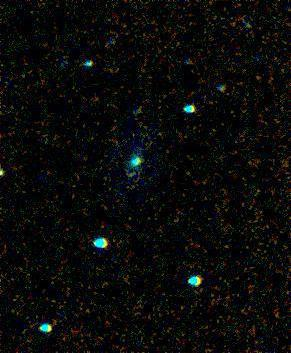star: (116, 161, 146, 191)
